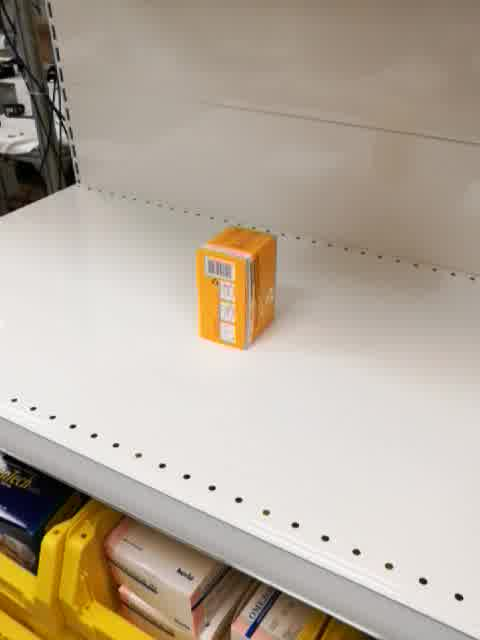jasminetea: (196, 225, 278, 352)
